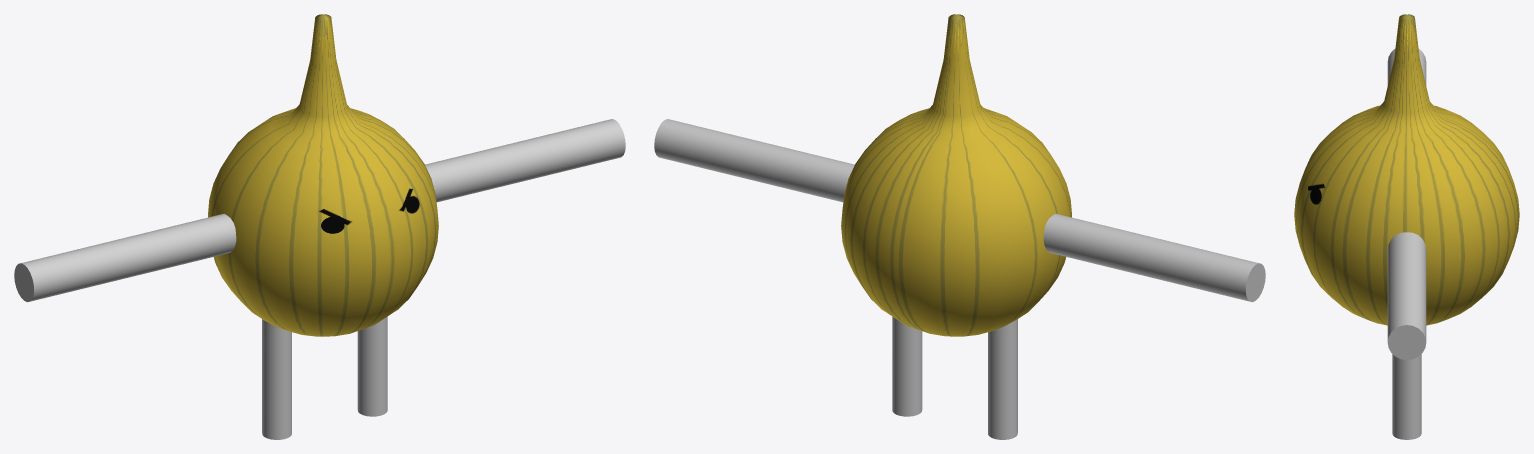
Rendered from Onion.fbx.
3 views of the same model, side by side, from view 1: azimuth 30°, elevation 25°; view 2: azimuth 150°, elevation 25°; view 3: azimuth 270°, elevation 25° (orthographic). The views are drawn at different scales.
Visible parts, largest first — view 1: pCylinder7; view 2: pCylinder7; view 3: pCylinder7.
Part boxes in pixels (bbox=[...]): pCylinder7: bbox=[14, 14, 625, 439]; pCylinder7: bbox=[654, 14, 1265, 439]; pCylinder7: bbox=[1294, 14, 1519, 439].
Size of the model in its own units: 23.99 by 15.8 by 8.16.
